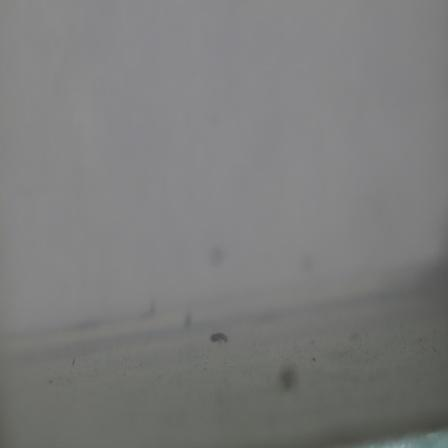Jentik-Nyamuk: (206, 324, 235, 347)
